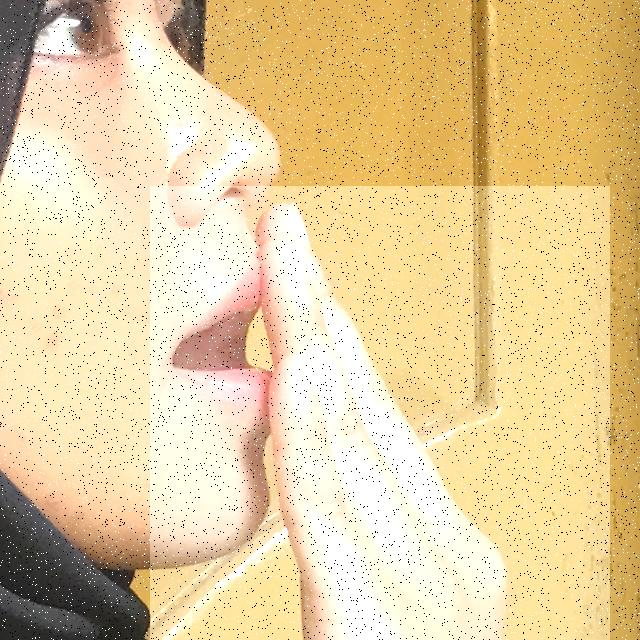ngantuk: (150, 186, 610, 640)
